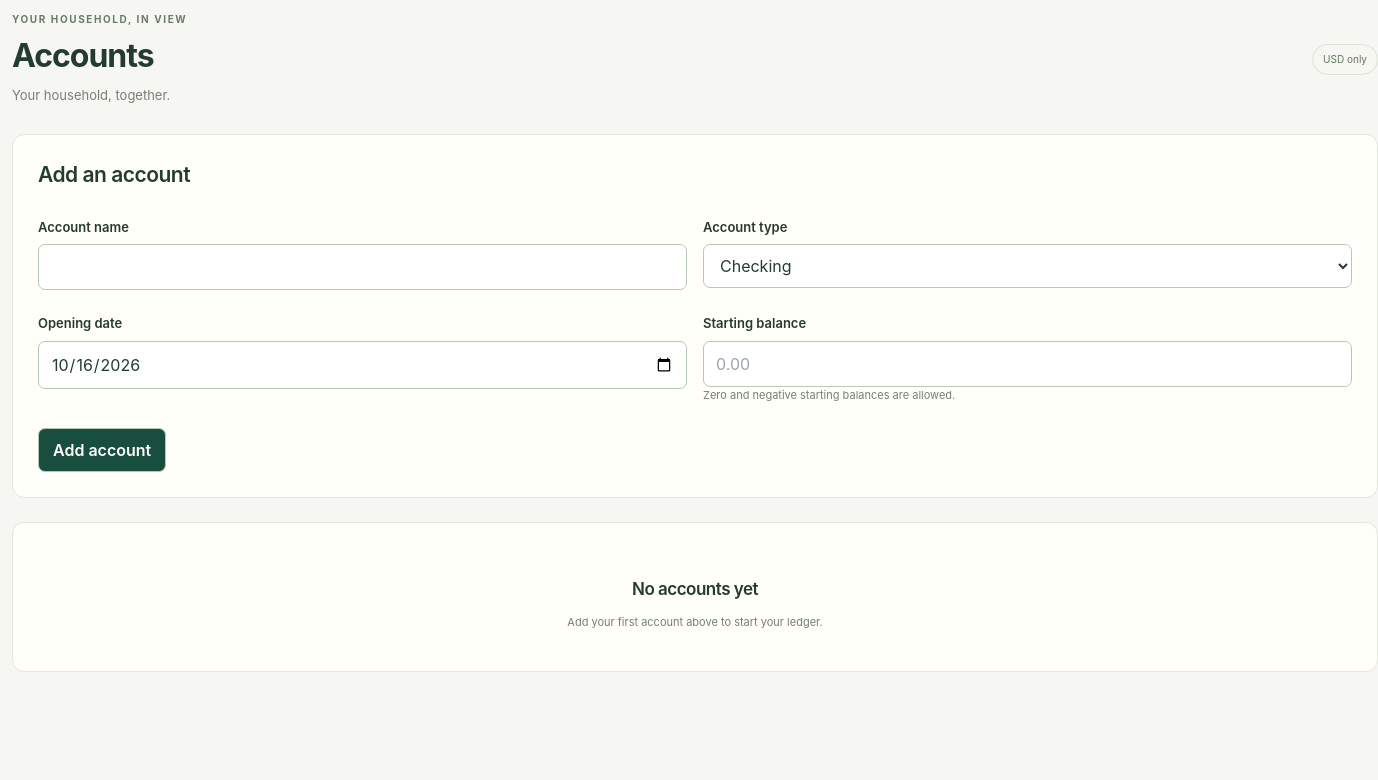
Scenario: AccountsPage: create, list, and archive accounts › creating an account submits the form with keyboard-accessible labels and reloads the list
This screenshot has width=1378, height=780.
Expected: the heading "No accounts yet" is shown, [632,579,758,599]
Type "Cash Jar" into the field labelled "Account name" at {"x": 362, "y": 267}, box [38,244,687,290]
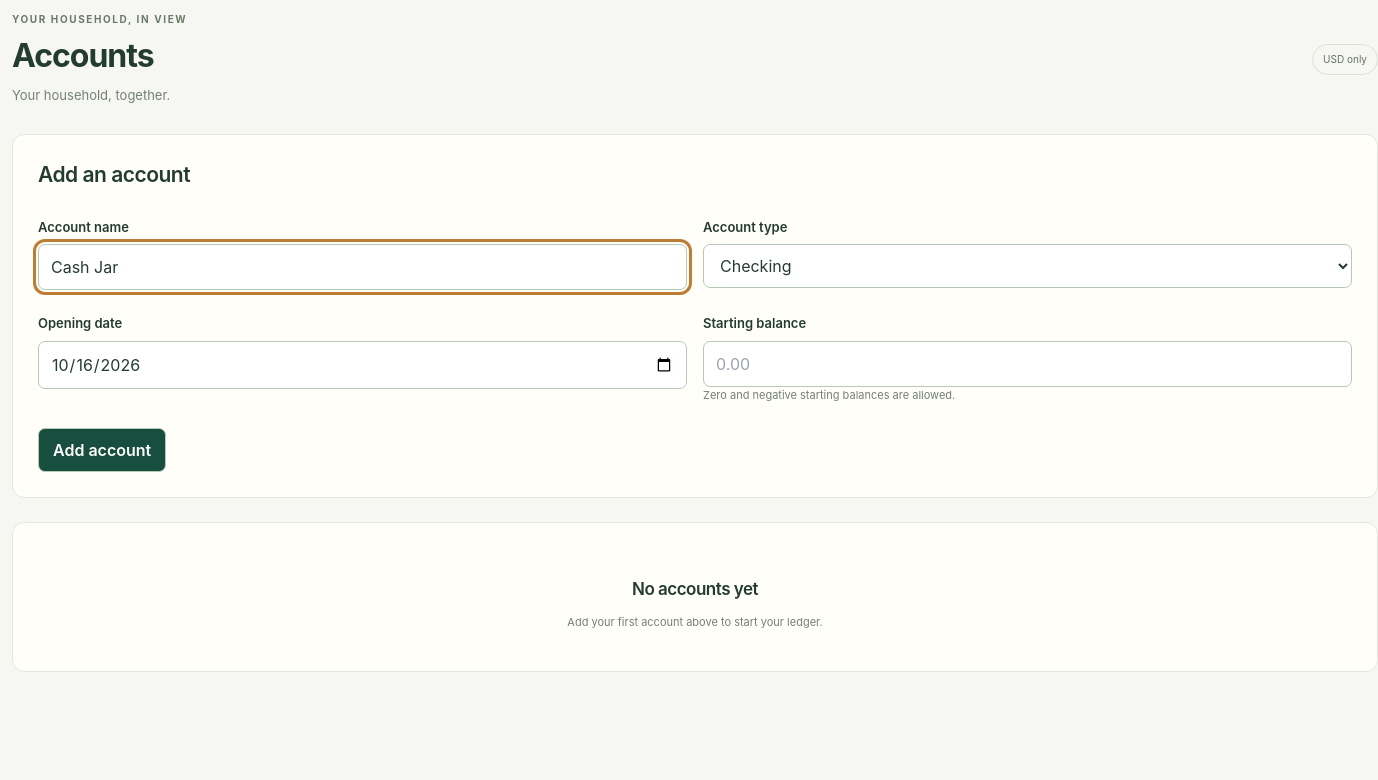
Select "Cash" in the dropdown labelled "Account type" at {"x": 1028, "y": 266}, box [703,244,1352,288]
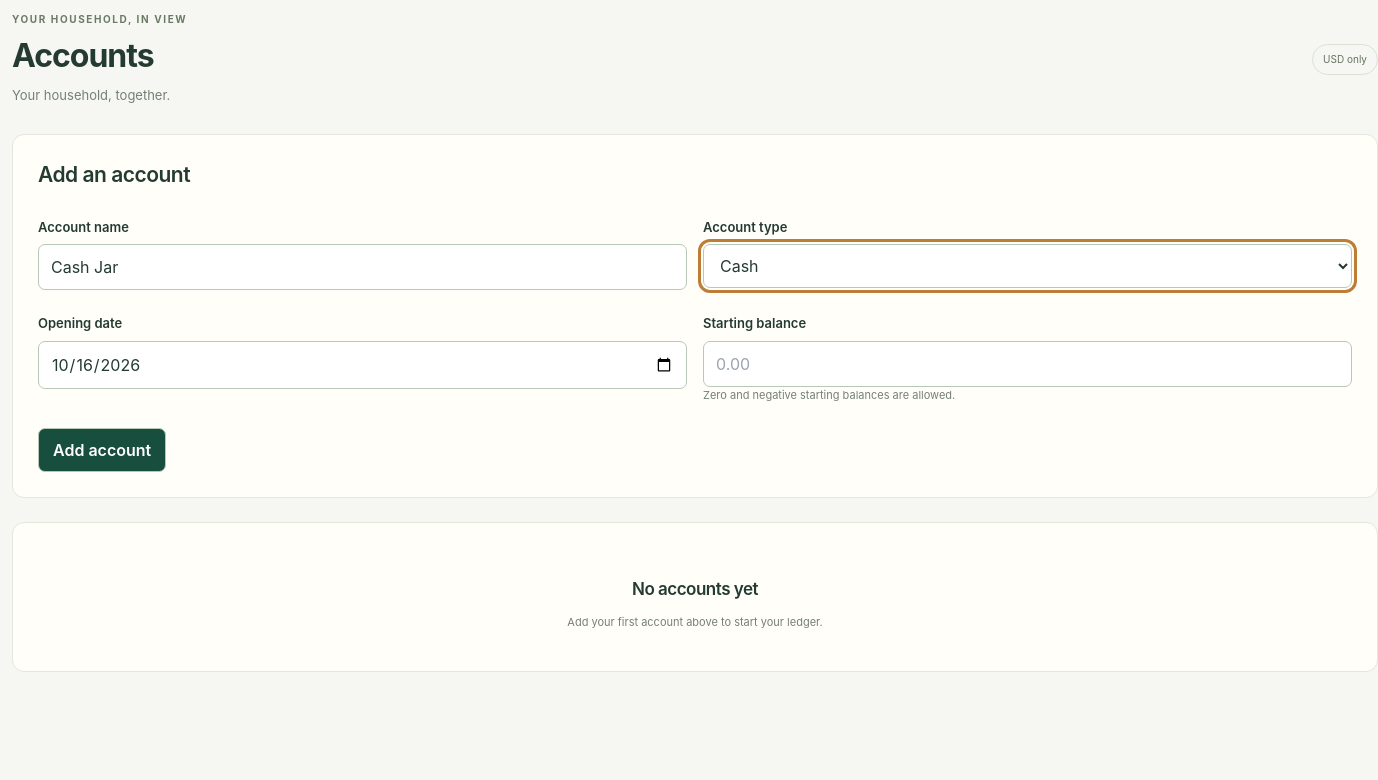
Type "2026-01-01" into the date field labelled "Opening date" at {"x": 362, "y": 365}, box [38,341,687,389]
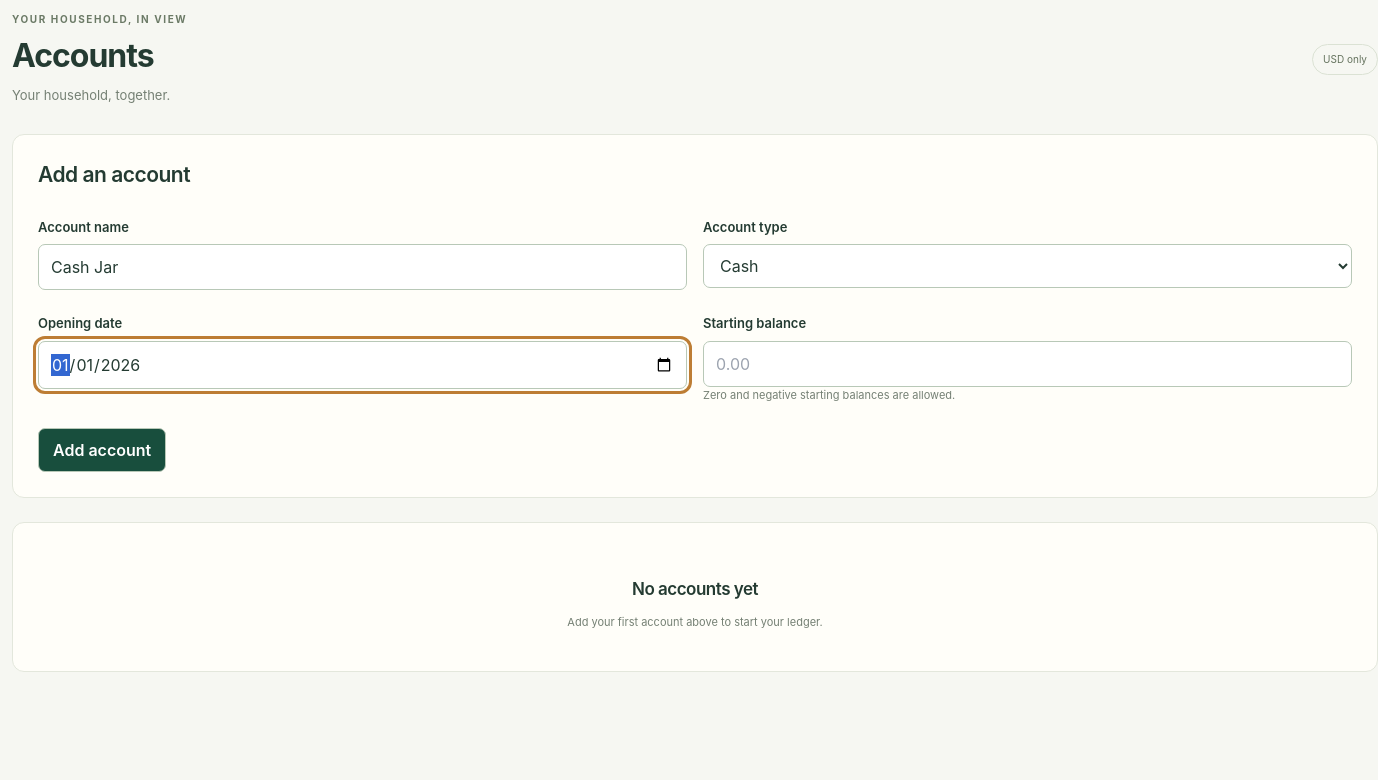
Type "20.00" into the field labelled "Starting balance" at {"x": 1028, "y": 364}, box [703,341,1352,387]
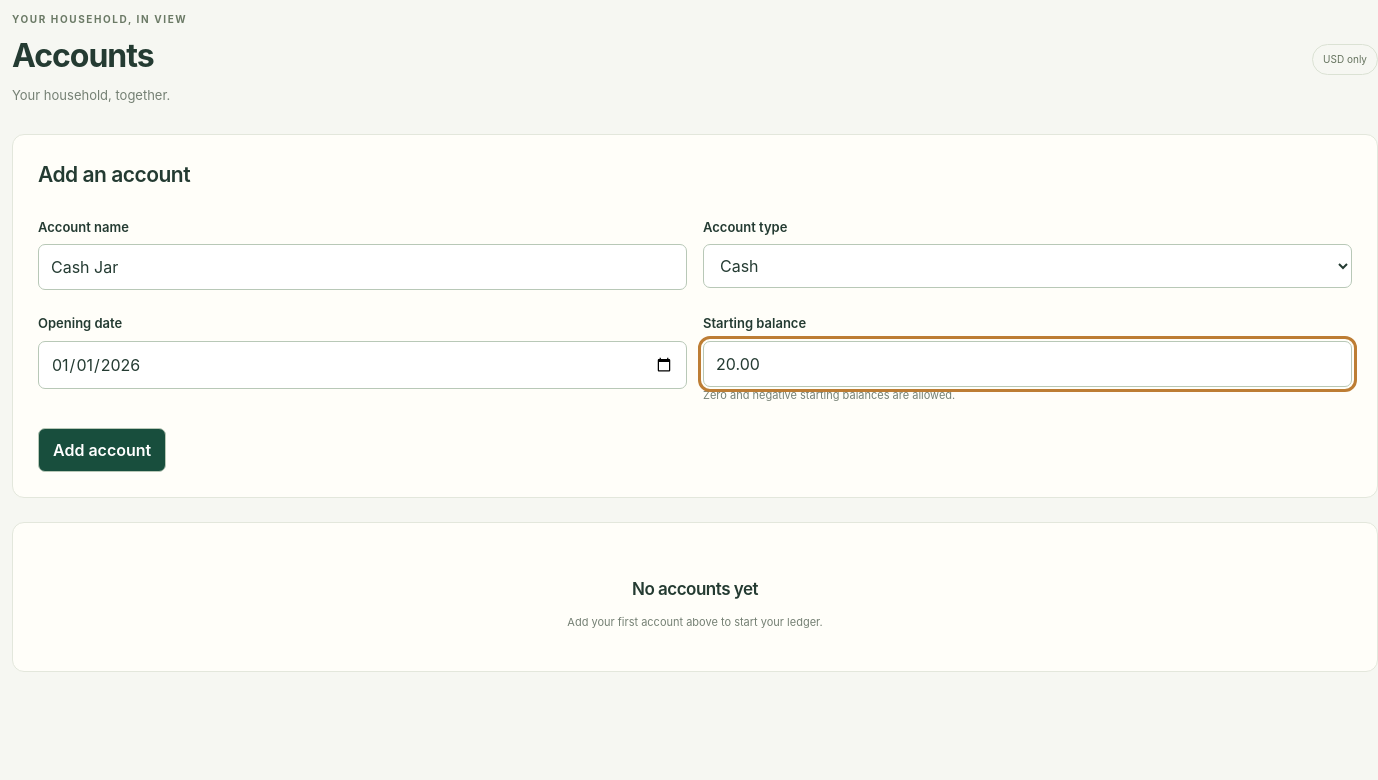
Click the button "Add account" at {"x": 102, "y": 450}, box [38,428,166,472]
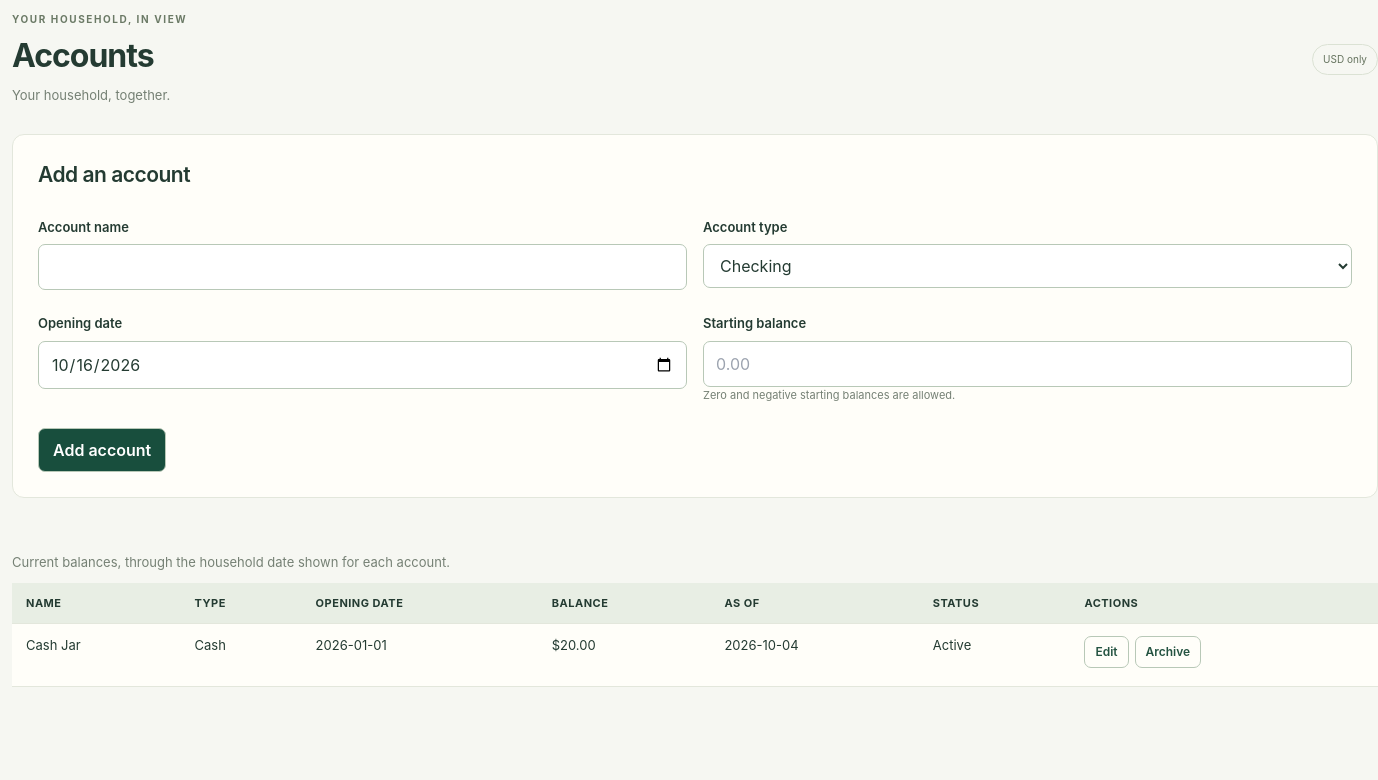
Now the text "Cash Jar" is shown, box [12,624,180,687]
